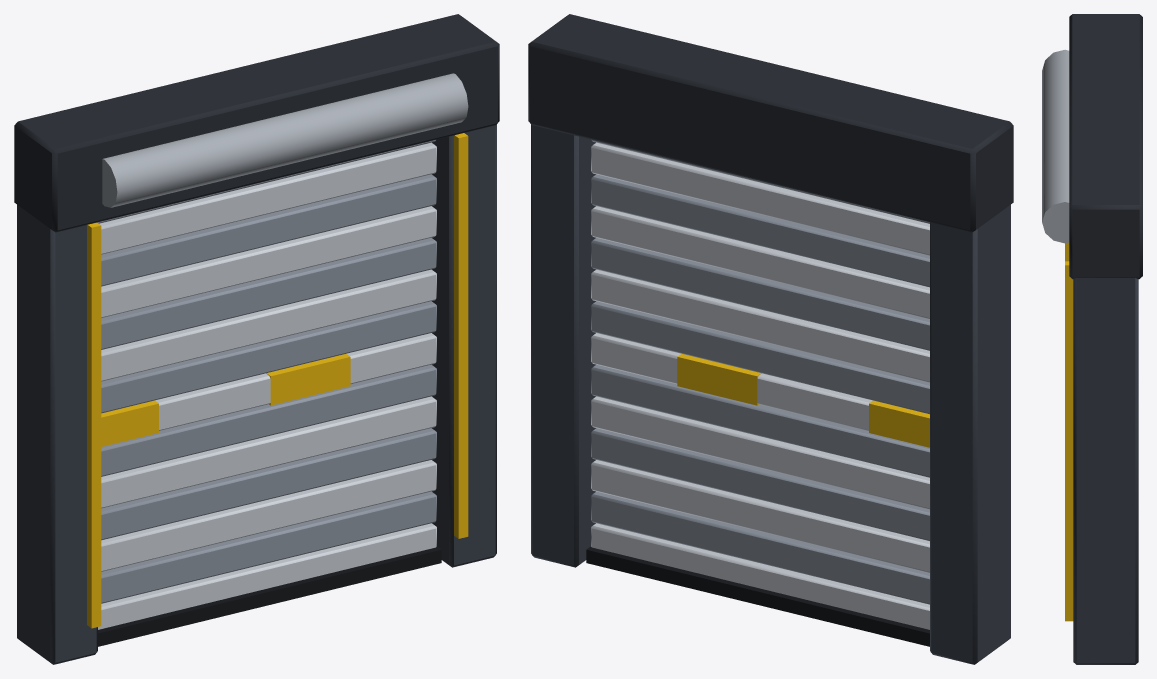
File: forcefield_blast_shutter.glb
3 renders of one model, left to right at view 1: azimuth 30°, elevation 25°; view 2: azimuth 150°, elevation 25°; view 3: azimuth 270°, elevation 25°, orthographic. The views are drawn at different scales.
Parts seen in each view (by area): view 1: forcefield_blast_shutter; view 2: forcefield_blast_shutter; view 3: forcefield_blast_shutter.
Part boxes in pixels (left/top/right/bottom): forcefield_blast_shutter: left=14, top=14, right=499, bottom=664; forcefield_blast_shutter: left=528, top=14, right=1013, bottom=664; forcefield_blast_shutter: left=1042, top=14, right=1142, bottom=664.
Bounding box in the file's own units: 2.81 × 3.1 × 0.615.
